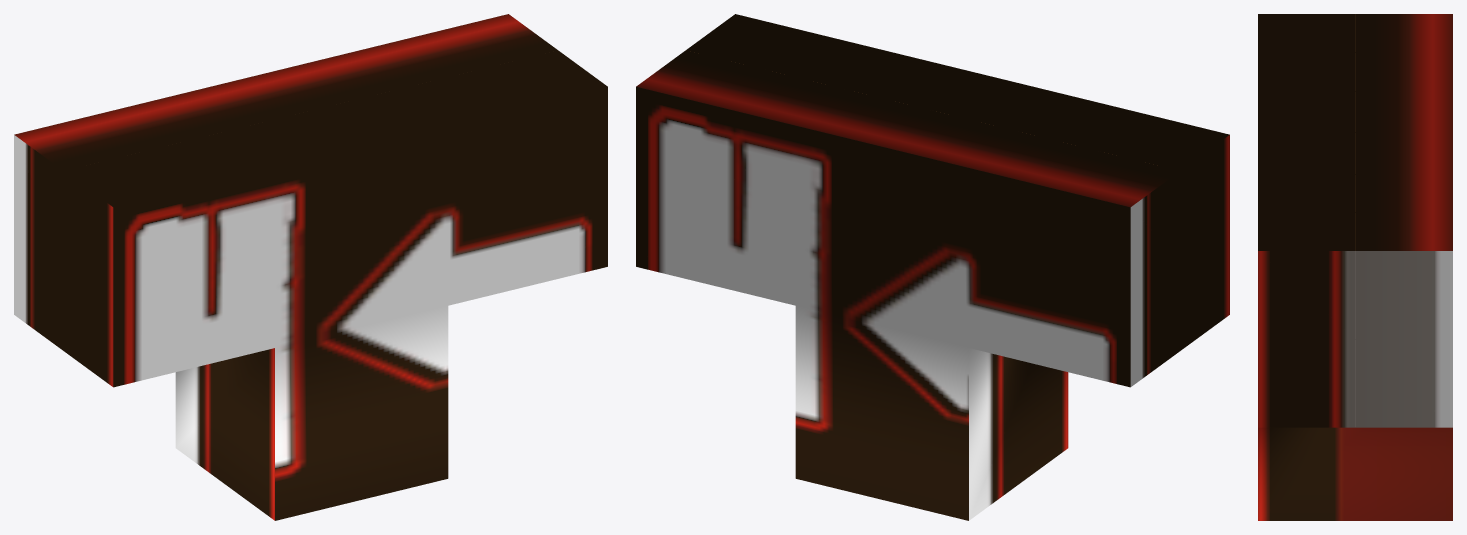
Rendered from LIST.ICO.obj.
3 views of the same model, side by side, from view 1: azimuth 30°, elevation 25°; view 2: azimuth 150°, elevation 25°; view 3: azimuth 270°, elevation 25° (orthographic).
Bounding box in the file's own units: 3.37 × 2.3 × 1.17.
